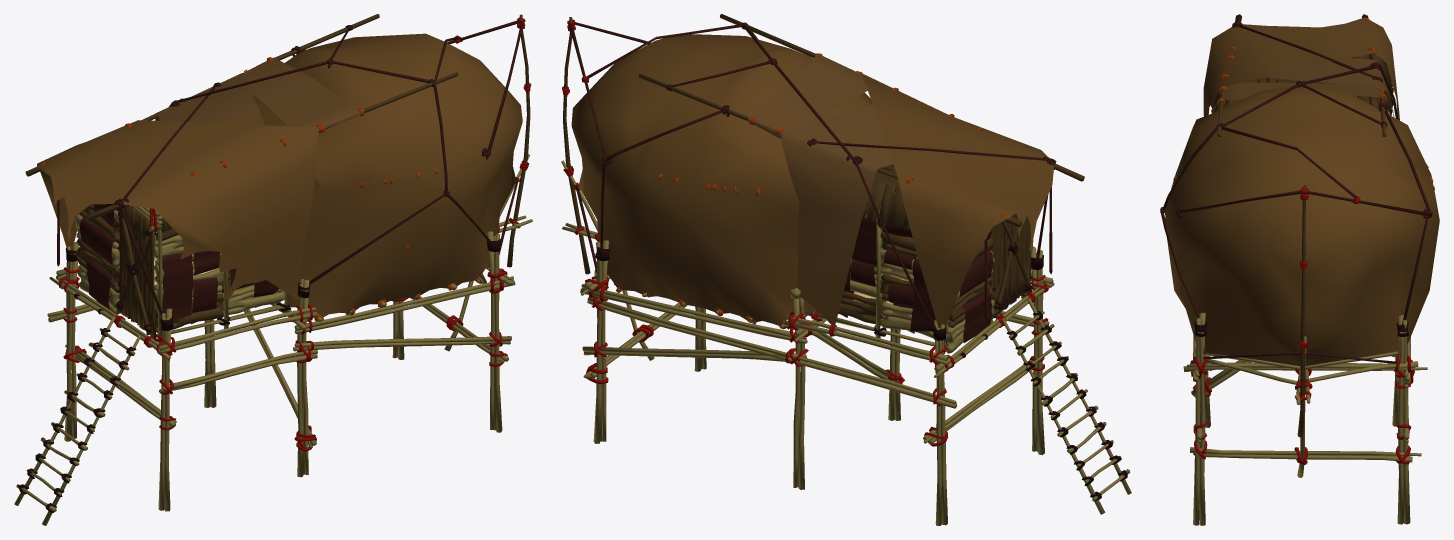
The model's file is AdvancedHouse.FBX.
3 views of the same model, side by side, from view 1: azimuth 30°, elevation 25°; view 2: azimuth 150°, elevation 25°; view 3: azimuth 270°, elevation 25° (orthographic). The views are drawn at different scales.
Parts seen in each view (by area): view 1: Cloth, Cloth_2, buff, Skin, Object004, Door, Object005; view 2: Cloth, Cloth_2, buff, Skin, Object004, Object005, Door, Object001; view 3: Cloth, Cloth_2, buff, Object004, Object005, Object001, Object002.
Boxes of the visible parts, x1,y1,x2,y2 form: Cloth: [252, 33, 522, 316]; Cloth_2: [37, 57, 364, 299]; buff: [14, 204, 532, 525]; Skin: [80, 204, 279, 321]; Object004: [57, 20, 523, 316]; Door: [116, 206, 156, 339]; Object005: [25, 14, 531, 351]; Cloth: [571, 34, 882, 325]; Cloth_2: [748, 53, 1054, 328]; buff: [562, 205, 1131, 525]; Skin: [842, 217, 1004, 342]; Object004: [569, 22, 1052, 328]; Object005: [561, 14, 1084, 360]; Door: [989, 213, 1032, 318]; Object001: [862, 181, 910, 230]; Cloth: [1165, 86, 1439, 366]; Cloth_2: [1203, 17, 1399, 120]; buff: [1183, 81, 1427, 525]; Object004: [1160, 24, 1430, 363]; Object005: [1204, 14, 1399, 477]; Object001: [1210, 54, 1394, 115]; Object002: [1234, 54, 1369, 104].
Size of the model in its own units: 385 by 171 by 260.
